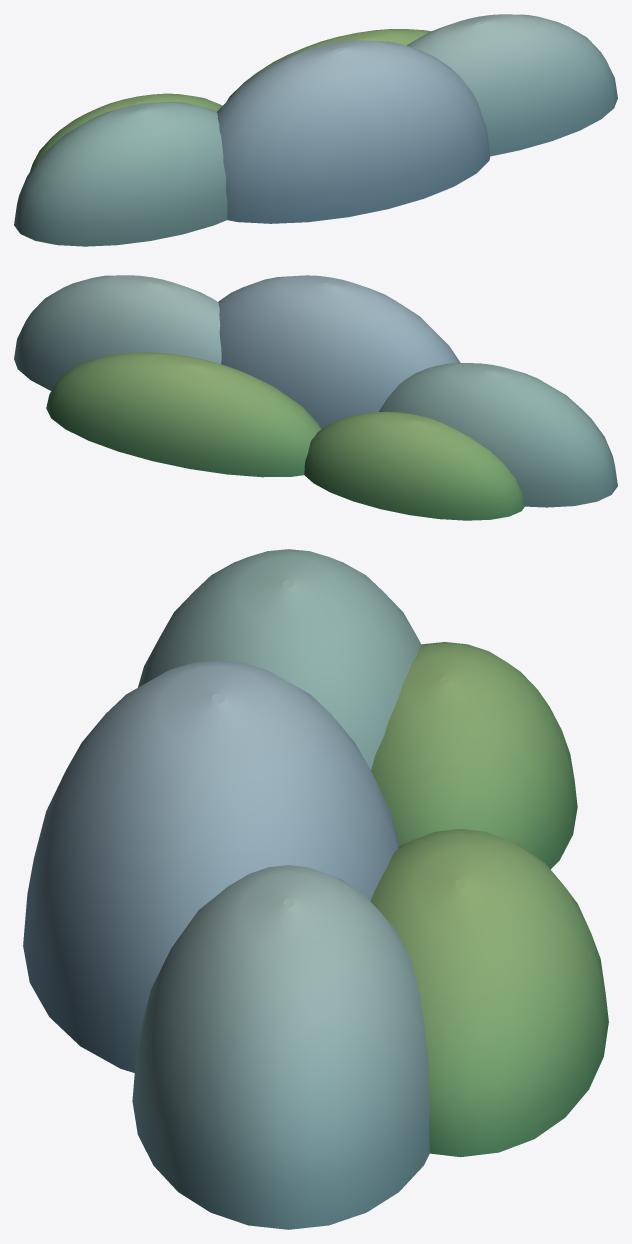
File: Origin_Soft_Hills.glb
The picture shows the model from 3 angles, top to bottom: view 1: azimuth 30°, elevation 25°; view 2: azimuth 150°, elevation 25°; view 3: azimuth 270°, elevation 25°; orthographic projection. The views are drawn at different scales.
Visible parts, largest first — view 1: Origin_Soft_Hills; view 2: Origin_Soft_Hills; view 3: Origin_Soft_Hills.
Part boxes in pixels (left/top/right/bottom): Origin_Soft_Hills: left=14, top=14, right=617, bottom=246; Origin_Soft_Hills: left=14, top=275, right=617, bottom=520; Origin_Soft_Hills: left=23, top=549, right=608, bottom=1229.
Size of the model in its own units: 17.5 by 3.49 by 7.5.
